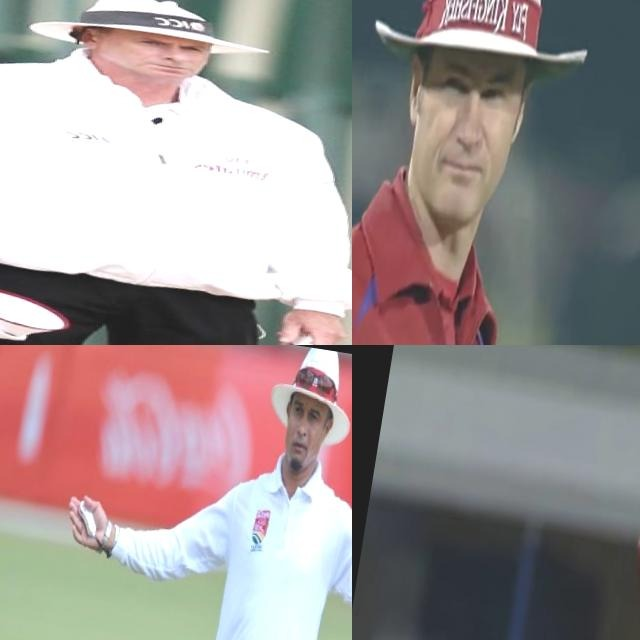No_Action: (0, 0, 352, 345), (352, 0, 617, 345)
Six: (483, 345, 640, 640)
Wide: (36, 345, 352, 640)
